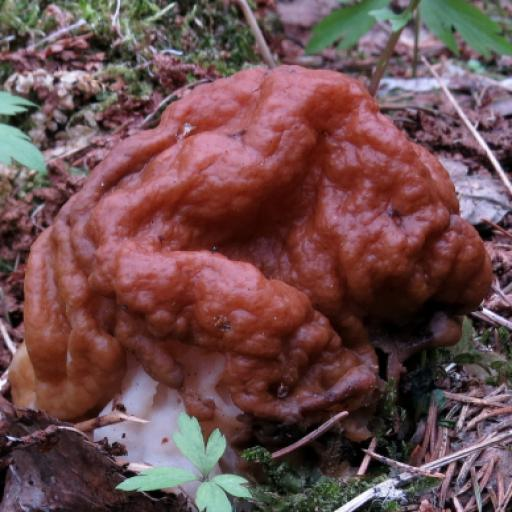False Morel: (0, 12, 510, 505)
